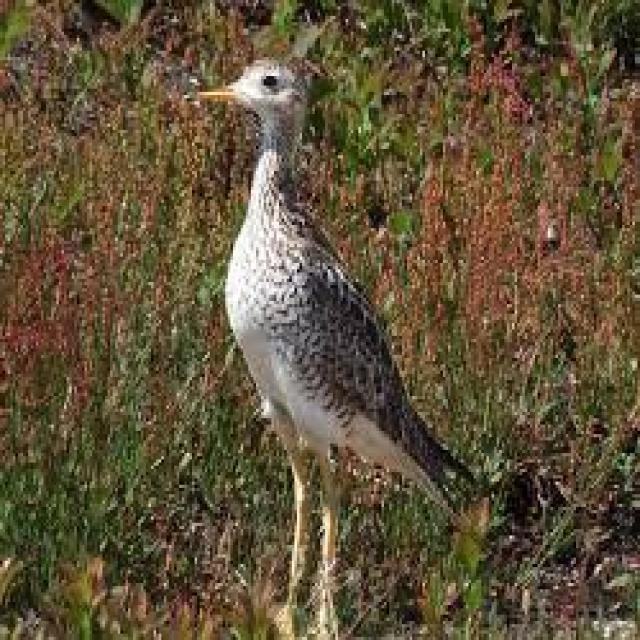Sandpiper: (192, 58, 459, 619)
